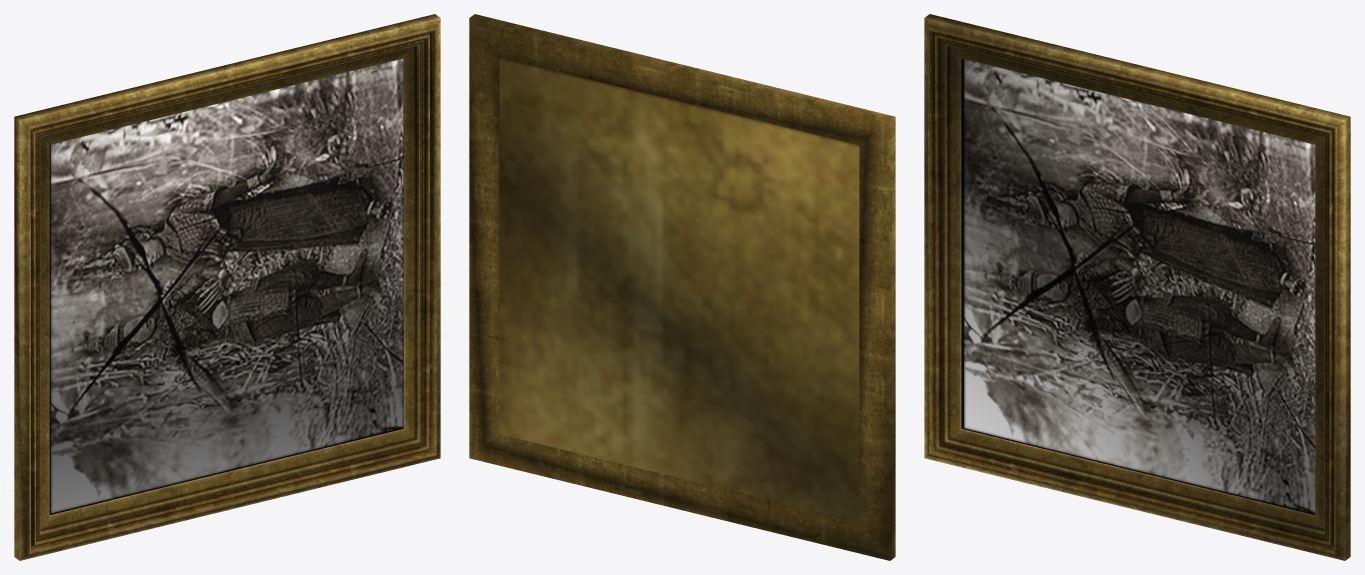
The model's file is photoFrameWallBig01.FBX.
The picture shows the model from 3 angles, left to right: view 1: azimuth 30°, elevation 25°; view 2: azimuth 150°, elevation 25°; view 3: azimuth 330°, elevation 25°; orthographic projection.
Parts seen in each view (by area): view 1: SM_PhotoFrameWallBig01; view 2: SM_PhotoFrameWallBig01; view 3: SM_PhotoFrameWallBig01.
Boxes of the visible parts, box(x1,y1,x2,y2) form: SM_PhotoFrameWallBig01: box(14, 14, 440, 560); SM_PhotoFrameWallBig01: box(469, 14, 895, 560); SM_PhotoFrameWallBig01: box(924, 14, 1350, 560).
Bounding box in the file's own units: 151 × 151 × 5.86.
Materials: 1 (1 with a texture image).
